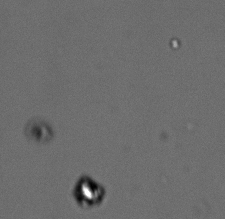Dead Cell: (29, 122, 50, 141)
Living Cell: (76, 177, 104, 206)
